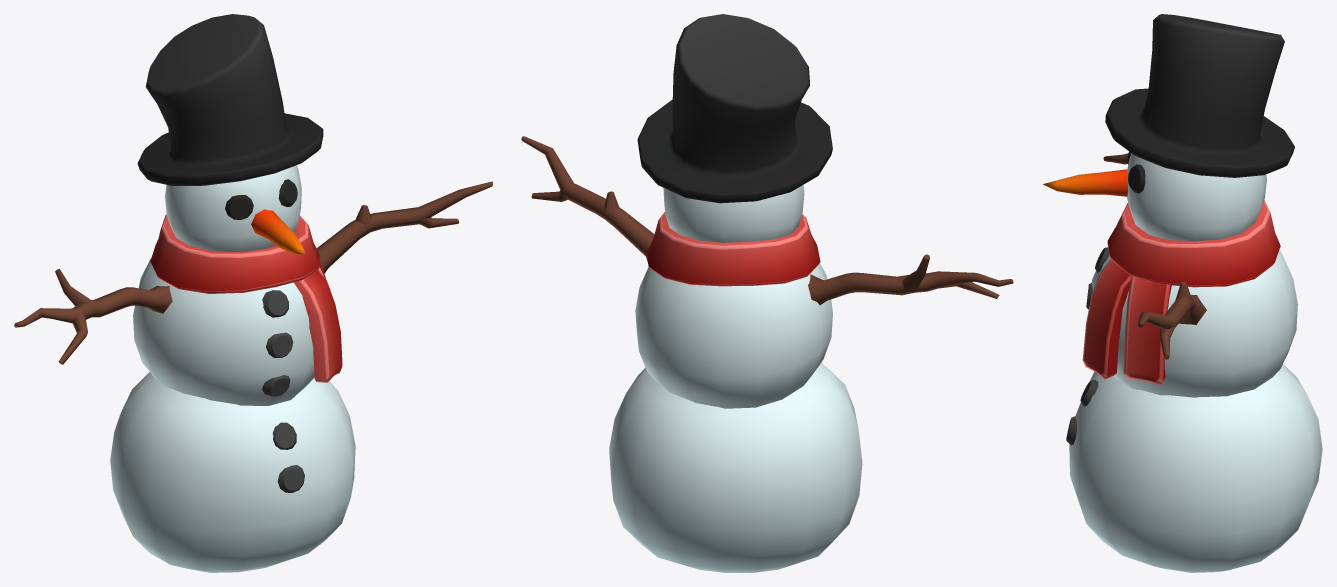
Rendered from snowman_001.fbx.
The picture shows the model from 3 angles, left to right: view 1: azimuth 30°, elevation 25°; view 2: azimuth 150°, elevation 25°; view 3: azimuth 270°, elevation 25°; orthographic projection. The views are drawn at different scales.
Visible parts, largest first — view 1: snowman_001; view 2: snowman_001; view 3: snowman_001.
Part boxes in pixels (box(x1,y1,x2,y2)): snowman_001: box(14, 14, 492, 572); snowman_001: box(521, 14, 1013, 572); snowman_001: box(1043, 14, 1322, 572).
Bounding box in the file's own units: 236 × 115 × 246.
